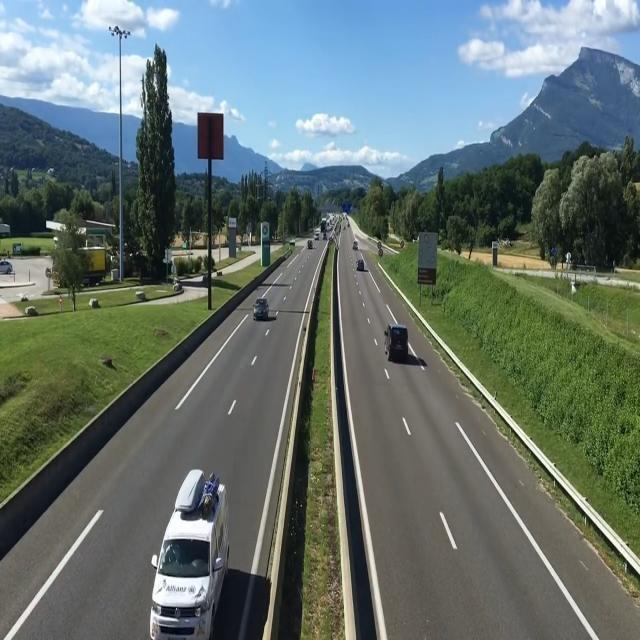Car: (384, 325, 413, 359), (253, 294, 269, 319), (355, 258, 366, 272), (304, 236, 316, 248), (351, 238, 360, 250)
Van: (153, 463, 235, 639)
